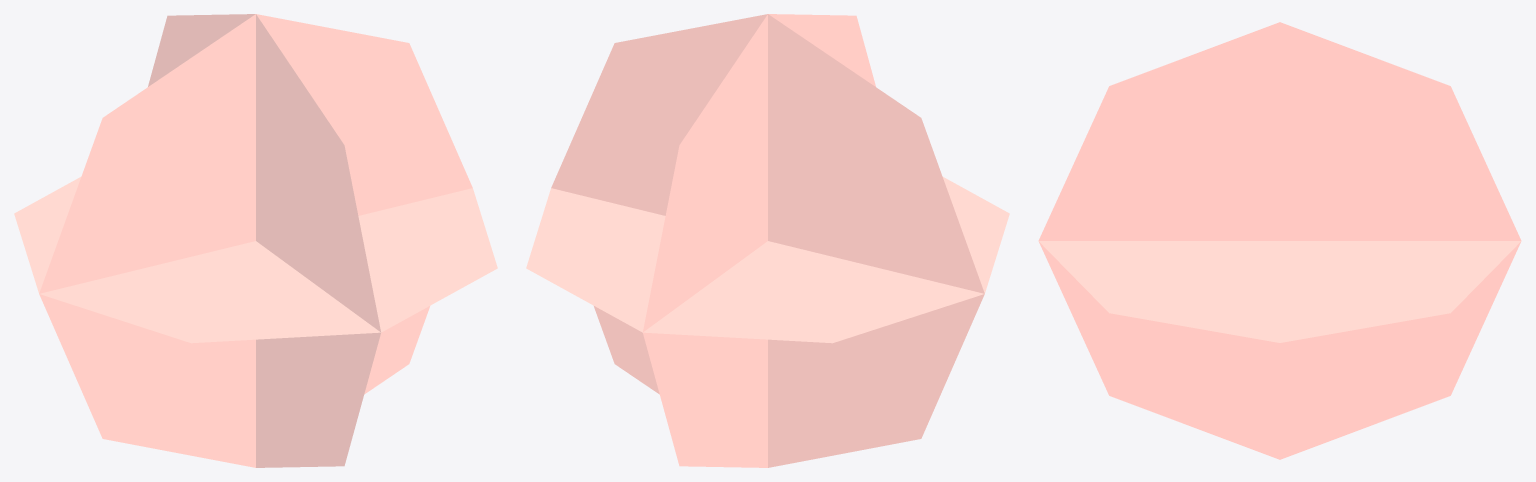
Rendered from mp-obj046-glow-a.glb.
The picture shows the model from 3 angles, left to right: view 1: azimuth 30°, elevation 25°; view 2: azimuth 150°, elevation 25°; view 3: azimuth 270°, elevation 25°; orthographic projection. The views are drawn at different scales.
Visible parts, largest first — view 1: Mp_obj_046; view 2: Mp_obj_046; view 3: Mp_obj_046.
Part boxes in pixels (x1,y1,x2,y2): Mp_obj_046: (14,14,497,467); Mp_obj_046: (526,14,1009,467); Mp_obj_046: (1038,22,1521,459).
Bounding box in the file's own units: 0.1484 × 0.1484 × 0.1484.
